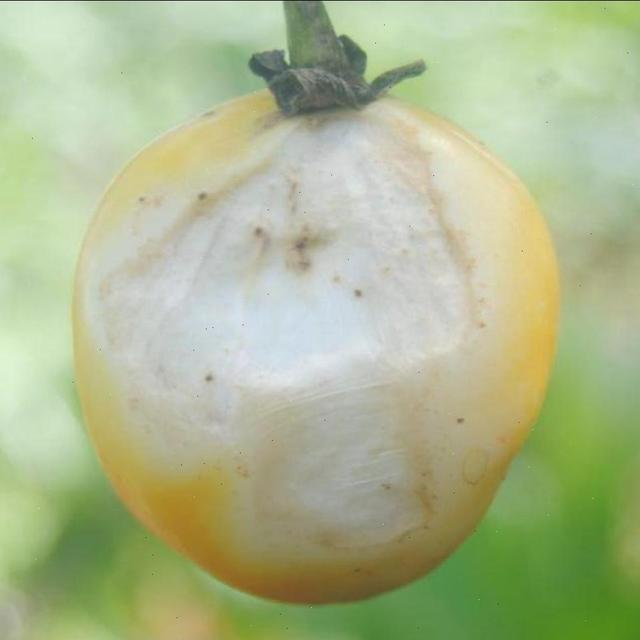Sunscald Fruit: (54, 70, 321, 366)
